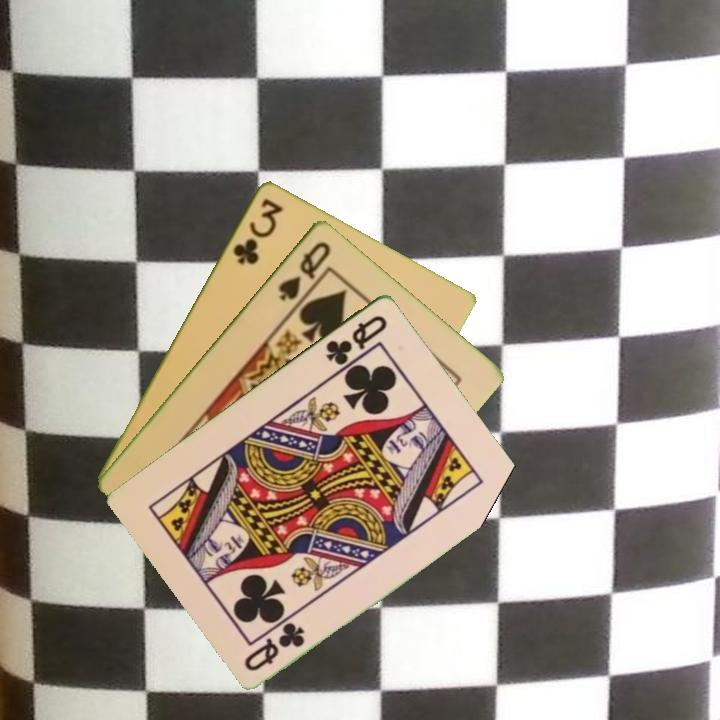3c: (229, 194, 286, 267)
Qc: (322, 311, 391, 368), (240, 618, 308, 674)
Qs: (274, 237, 334, 303)
